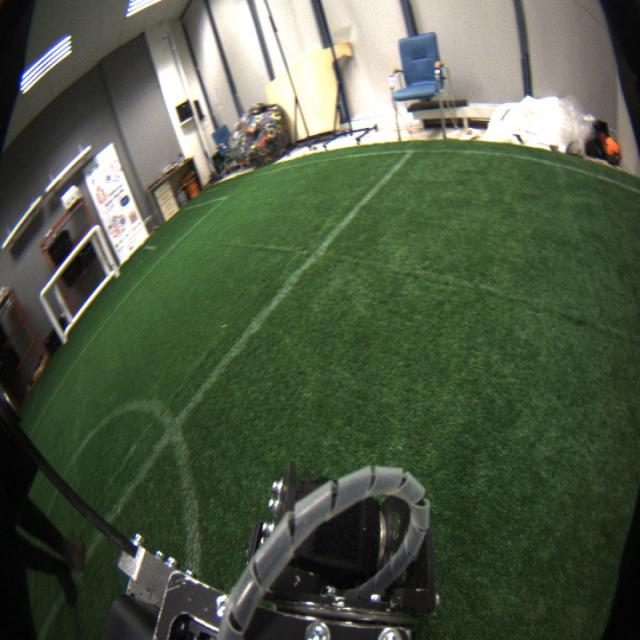goalpost: (93, 222, 122, 279), (38, 291, 68, 345)
